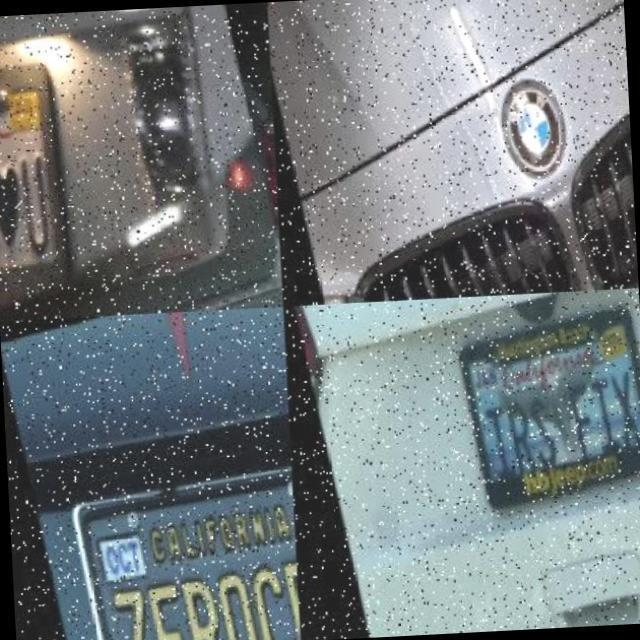License Plate: (53, 424, 301, 640), (444, 288, 640, 518), (0, 32, 140, 320)
